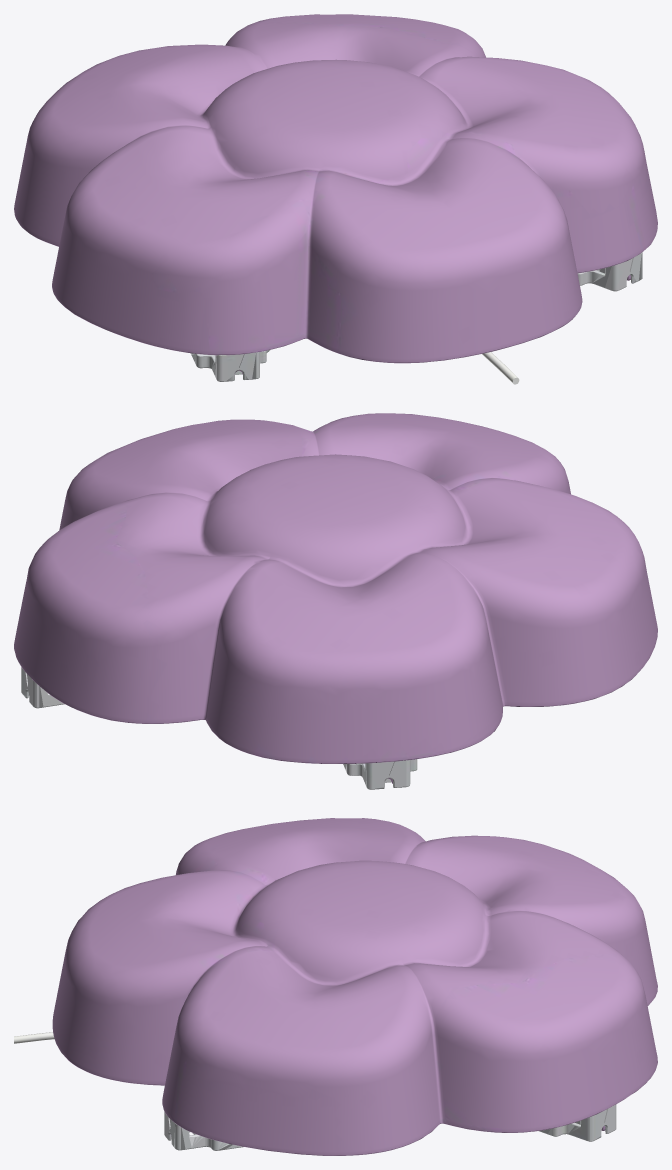
Rendered from upplyst_lampa_scienna_led_00440339.glb.
The picture shows the model from 3 angles, top to bottom: view 1: azimuth 30°, elevation 25°; view 2: azimuth 150°, elevation 25°; view 3: azimuth 270°, elevation 25°; orthographic projection. The views are drawn at different scales.
Parts seen in each view (by area): view 1: upplyst_lampa_scienna_led_00440339; view 2: upplyst_lampa_scienna_led_00440339; view 3: upplyst_lampa_scienna_led_00440339.
Boxes of the visible parts, <box> form: upplyst_lampa_scienna_led_00440339: <box>14,14,657,384</box>; upplyst_lampa_scienna_led_00440339: <box>14,413,657,789</box>; upplyst_lampa_scienna_led_00440339: <box>14,818,657,1155</box>.
Bounding box in the file's own units: 0.271 × 0.0756 × 0.2819.
Materials: 2 (2 with a texture image).
